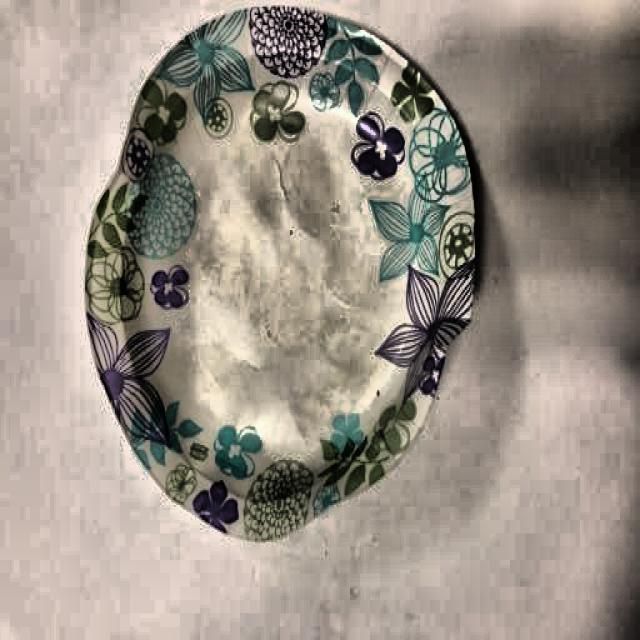paper: (77, 0, 474, 528)
